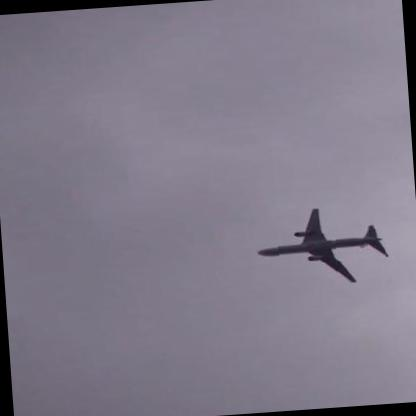plane: (254, 201, 389, 292)
